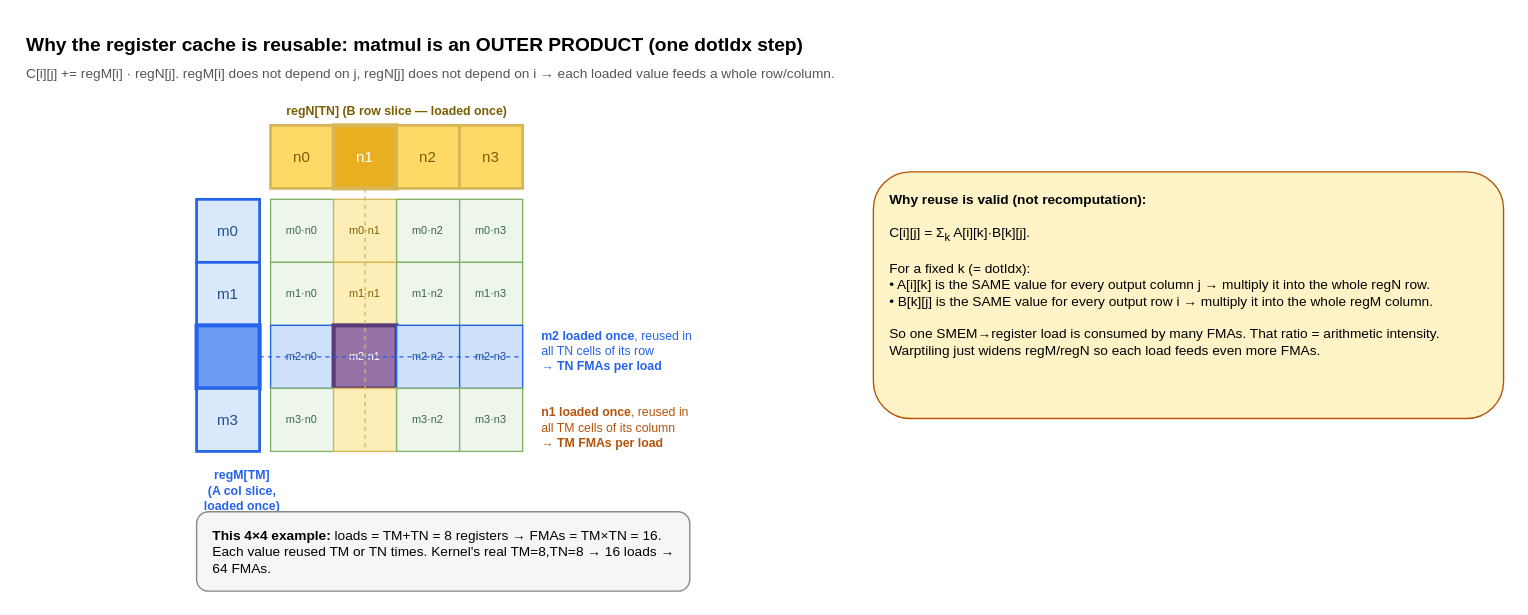
Some shapes in this 1528 by 615 pixel diagram are drawn without their labels. The shapes that lost their labels are listed below. From the top down, each one's centre as x and y in pixels, then its label:
[227,356]: m2
[364,419]: m3·n1
